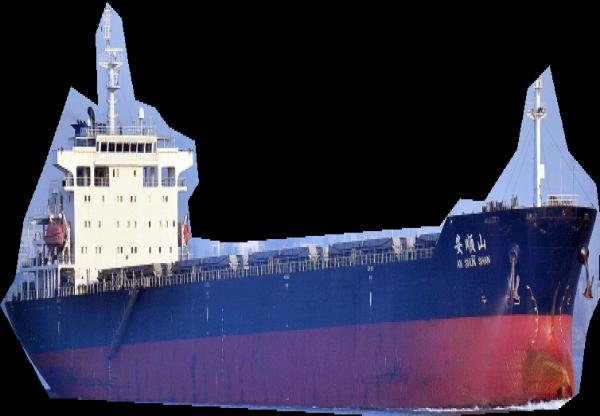Bulkers: (0, 1, 600, 416)
